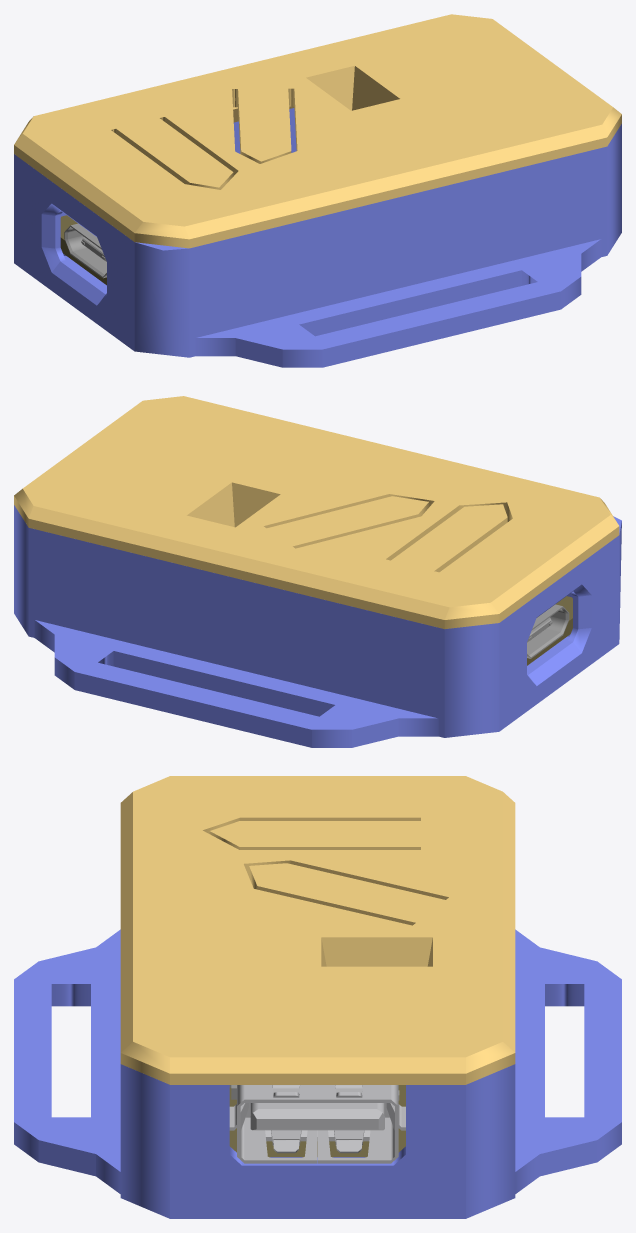
The model's file is ada-6057.glb.
3 views of the same model, one above another, from view 1: azimuth 30°, elevation 25°; view 2: azimuth 150°, elevation 25°; view 3: azimuth 270°, elevation 25° (orthographic). The views are drawn at different scales.
Parts seen in each view (by area): view 1: 1_0.6666666666666666_0.25_0, 0.25_0.25_1_0, 0.3333333333333333_0.3333333333333333_0.3333333333333333_0, 0.16666666666666666_0.16666666666666666_0.08333333333333333_; view 2: 1_0.6666666666666666_0.25_0, 0.25_0.25_1_0, 0.3333333333333333_0.3333333333333333_0.3333333333333333_0, 0.16666666666666666_0.16666666666666666_0.08333333333333333_; view 3: 1_0.6666666666666666_0.25_0, 0.25_0.25_1_0, 0.5833333333333334_0.5833333333333334_0.5833333333333334_0.8, 0.16666666666666666_0.16666666666666666_0.08333333333333333_.
Part boxes in pixels (x1,y1,x2,y2): 1_0.6666666666666666_0.25_0: (14,14,621,248); 0.25_0.25_1_0: (14,108,621,367); 0.3333333333333333_0.3333333333333333_0.3333333333333333_0: (64,223,106,278); 0.16666666666666666_0.16666666666666666_0.08333333333333333_: (60,215,106,285); 1_0.6666666666666666_0.25_0: (14,396,619,629); 0.25_0.25_1_0: (14,505,621,747); 0.3333333333333333_0.3333333333333333_0.3333333333333333_0: (527,604,569,658); 0.16666666666666666_0.16666666666666666_0.08333333333333333_: (527,596,572,665); 1_0.6666666666666666_0.25_0: (120,776,515,1084); 0.25_0.25_1_0: (14,929,621,1218); 0.5833333333333334_0.5833333333333334_0.5833333333333334_0.8: (229,1085,405,1163); 0.16666666666666666_0.16666666666666666_0.08333333333333333_: (229,1085,405,1157).
Bounding box in the file's own units: 5.69 × 1.4 × 4.93.
